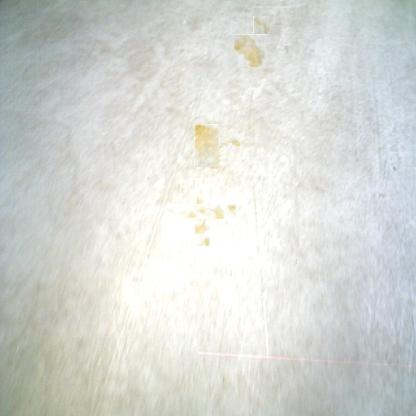liquid: (182, 191, 223, 233), (194, 124, 219, 167), (234, 34, 266, 67), (253, 17, 270, 34), (219, 138, 240, 146)
mark: (284, 44, 292, 55), (392, 165, 398, 173)
